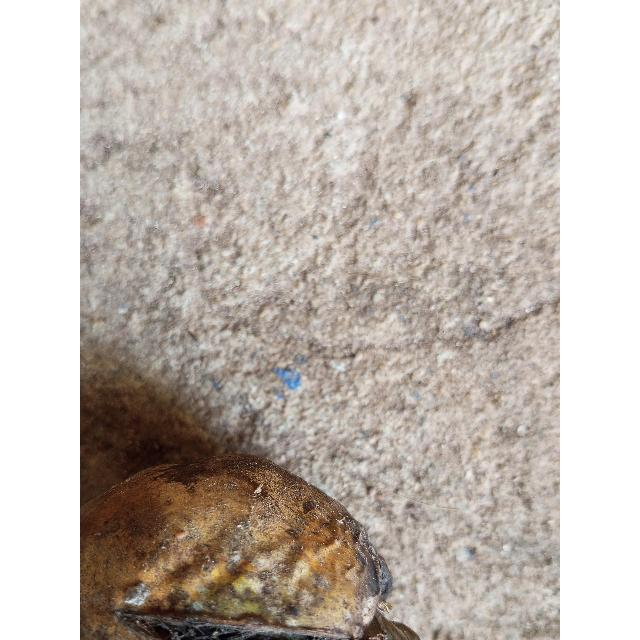damaged: (80, 454, 421, 640)
